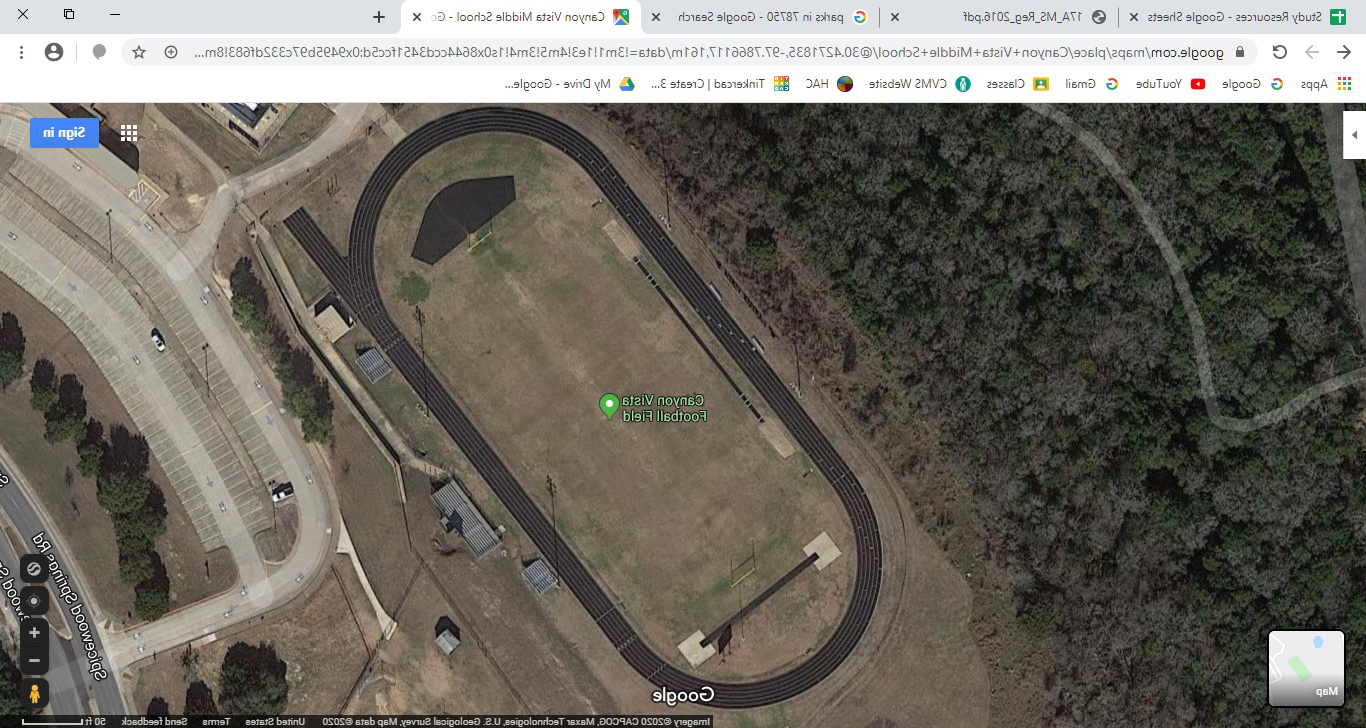soccer: (260, 122, 1031, 713)
